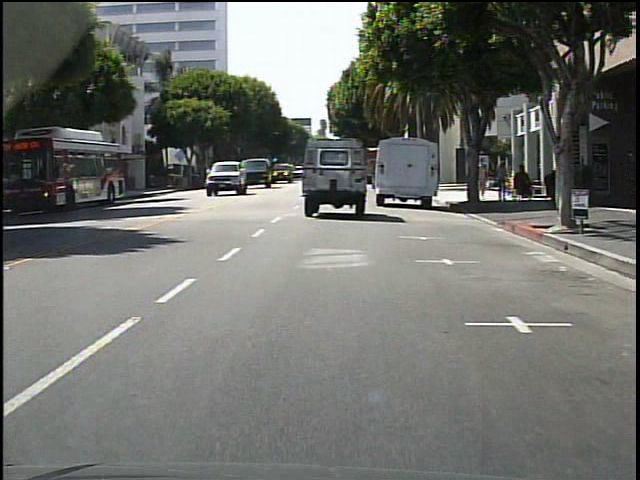person: (474, 158, 492, 204), (496, 163, 511, 203)
